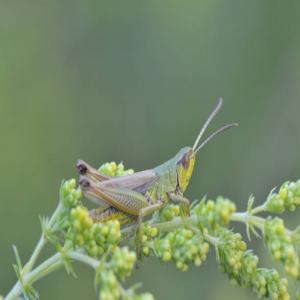locust: (70, 108, 232, 233)
